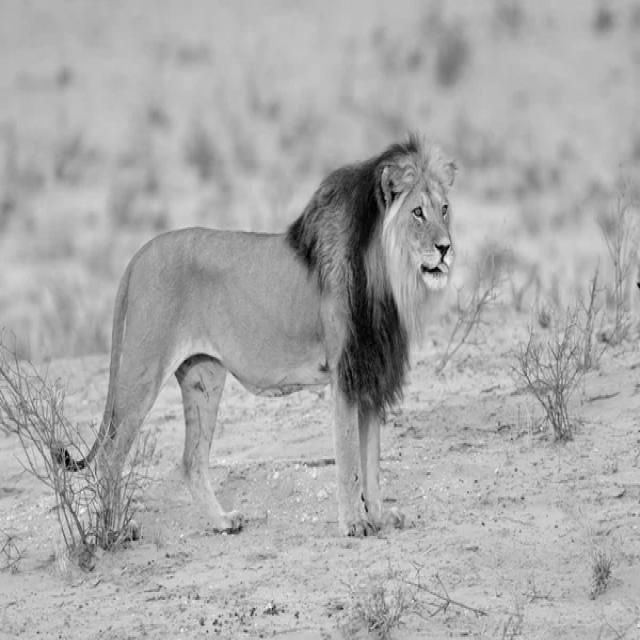Animal: (58, 123, 482, 551)
